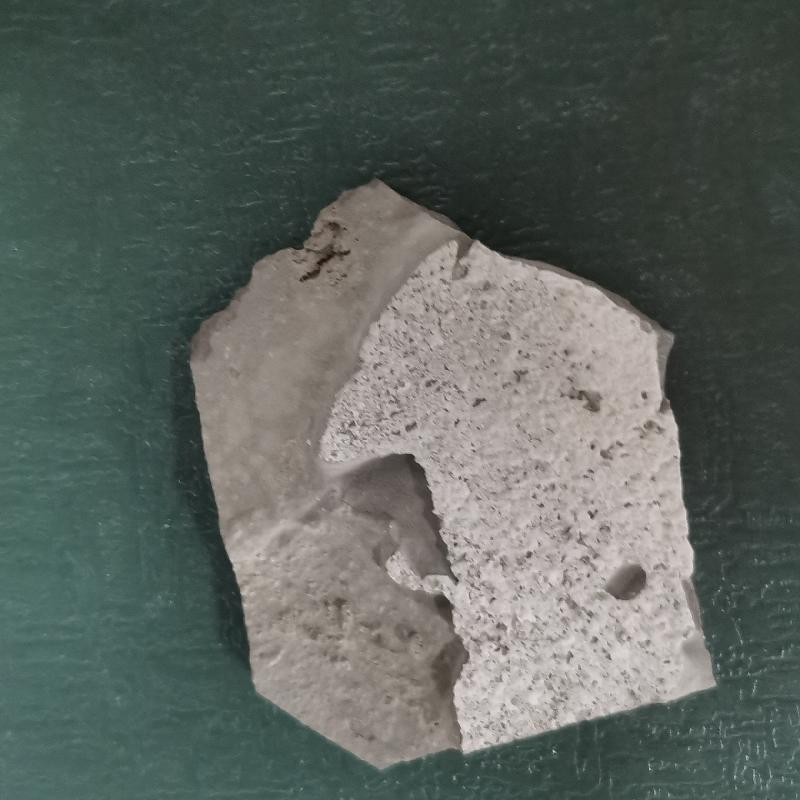tile: (179, 176, 722, 772)
